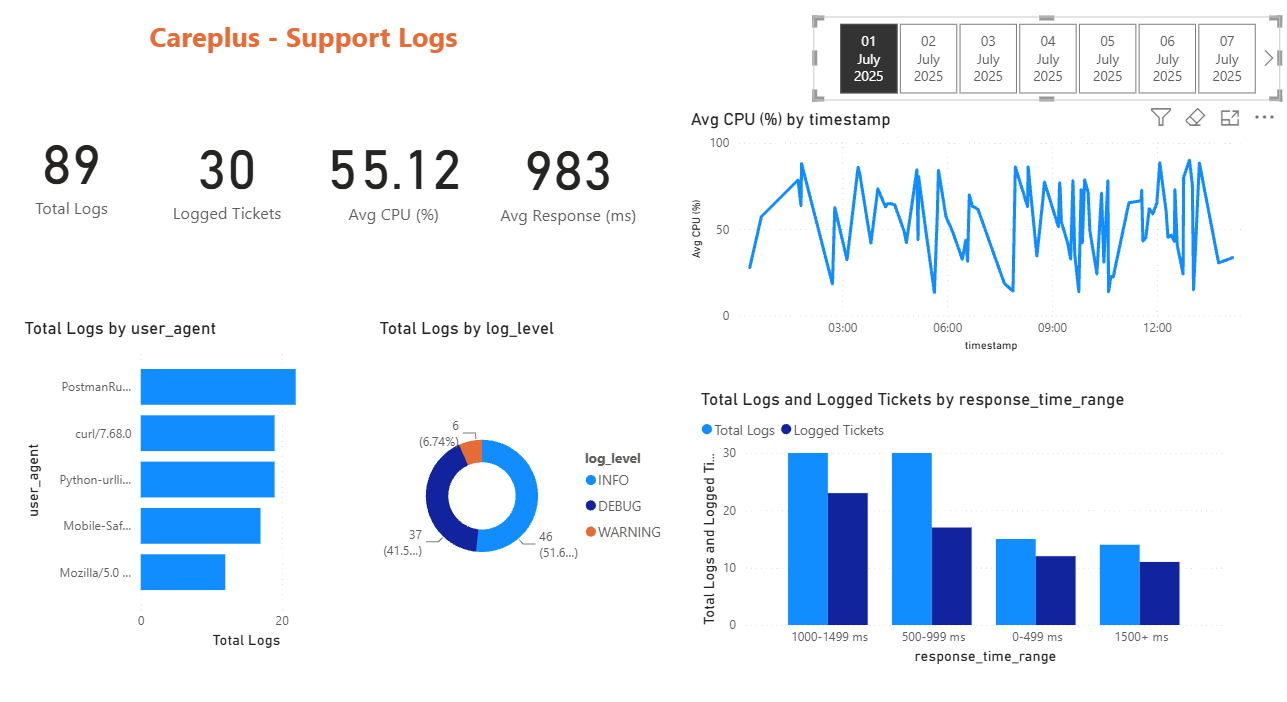

What the dashboard file says about the page in this screenshot:
{"tool":"powerbi","page":{"name":"support_logs","canvas":[1280,720],"ordinal":1},"visuals":[{"type":"card","fields":{"Values":["key_measures.Total Logs"]},"box":[0,114.1,146.3,114.1],"z":0},{"type":"card","fields":{"Values":["key_measures.Logged Tickets"]},"box":[154.1,122,142.4,106.3],"z":1000},{"type":"card","fields":{"Values":["key_measures.Avg CPU (%)"]},"box":[314.1,118,148.3,115.1],"z":2000},{"type":"card","fields":{"Values":["key_measures.Avg Response (ms)"]},"box":[485.9,118,147.3,117.1],"z":3000},{"type":"lineChart","fields":{"Category":["support_logs.timestamp"],"Y":["key_measures.Avg CPU (%)"]},"box":[674.1,112.2,555.1,242],"z":4000},{"type":"slicer","fields":{"Values":["dim_date.date"]},"box":[799,22.1,457.1,82],"z":5000},{"type":"donutChart","fields":{"Category":["support_logs.log_level"],"Y":["key_measures.Total Logs"]},"box":[369.8,317.1,294.6,329.8],"z":6000},{"type":"barChart","fields":{"Category":["support_logs.user_agent"],"Y":["key_measures.Total Logs"]},"box":[22.4,317.1,337.6,328.8],"z":7000},{"type":"clusteredColumnChart","fields":{"Category":["support_logs.response_time_range"],"Y":["key_measures.Total Logs","key_measures.Logged Tickets"]},"box":[683.8,386.1,522.5,274.6],"z":8000},{"type":"textbox","box":[144.7,18.4,381.2,63.7],"z":9000}]}

Visuals, with their boxes on the page's 1280x720 design canvas (x1, y1, x2, y2). These are canvas units, not pixel positions in the 1287x702 screenshot, which may show the page scaled, cropped or inside an application window:
card - key_measures.Total Logs: [left=0, top=114, right=146, bottom=228]
card - key_measures.Logged Tickets: [left=154, top=122, right=296, bottom=228]
card - key_measures.Avg CPU (%): [left=314, top=118, right=462, bottom=233]
card - key_measures.Avg Response (ms): [left=486, top=118, right=633, bottom=235]
lineChart - support_logs.timestamp x key_measures.Avg CPU (%): [left=674, top=112, right=1229, bottom=354]
slicer - dim_date.date: [left=799, top=22, right=1256, bottom=104]
donutChart - support_logs.log_level x key_measures.Total Logs: [left=370, top=317, right=664, bottom=647]
barChart - support_logs.user_agent x key_measures.Total Logs: [left=22, top=317, right=360, bottom=646]
clusteredColumnChart - support_logs.response_time_range x key_measures.Total Logs: [left=684, top=386, right=1206, bottom=661]
textbox: [left=145, top=18, right=526, bottom=82]
